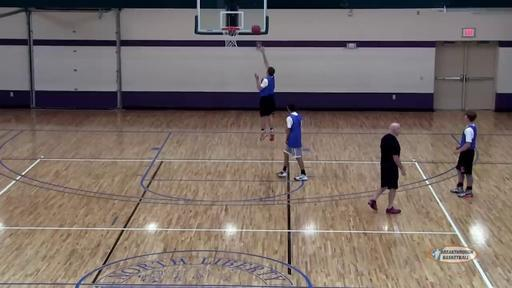ball: (251, 24, 261, 34)
human: (368, 123, 406, 214), (450, 110, 478, 199), (276, 104, 308, 180), (254, 41, 276, 142)
rim: (221, 26, 240, 48)
